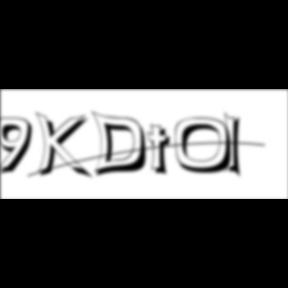9: (1, 117, 40, 177)
D: (90, 110, 154, 180)
I: (224, 110, 248, 182)
K: (36, 110, 94, 182)
O: (174, 117, 240, 176)
t: (148, 124, 178, 179)
